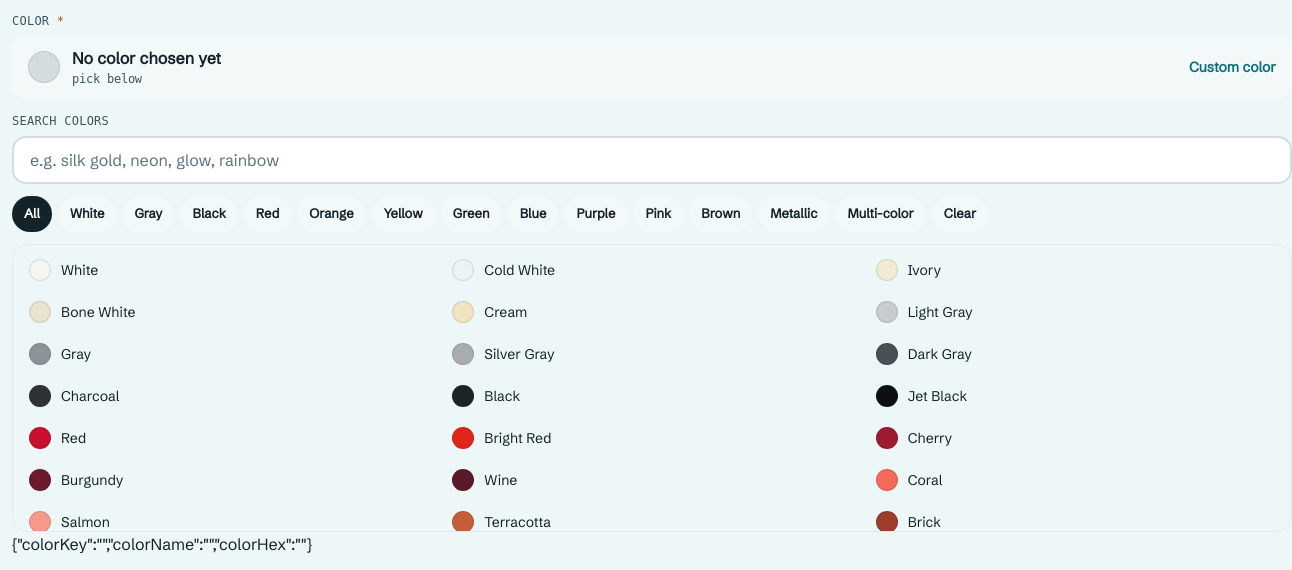
Test case: ColorPicker › filters by family
Click the button "Metallic": click(794, 214) 758,196 -> 829,232
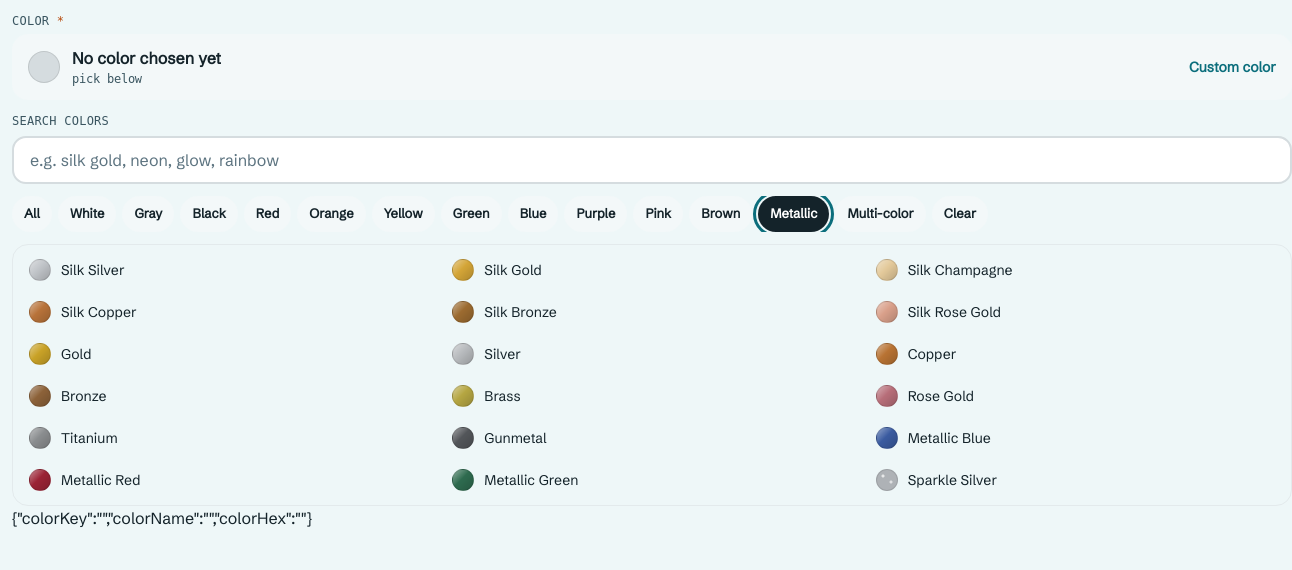
Check: the button "Silk Gold" is shown, box 442,251 -> 862,289
